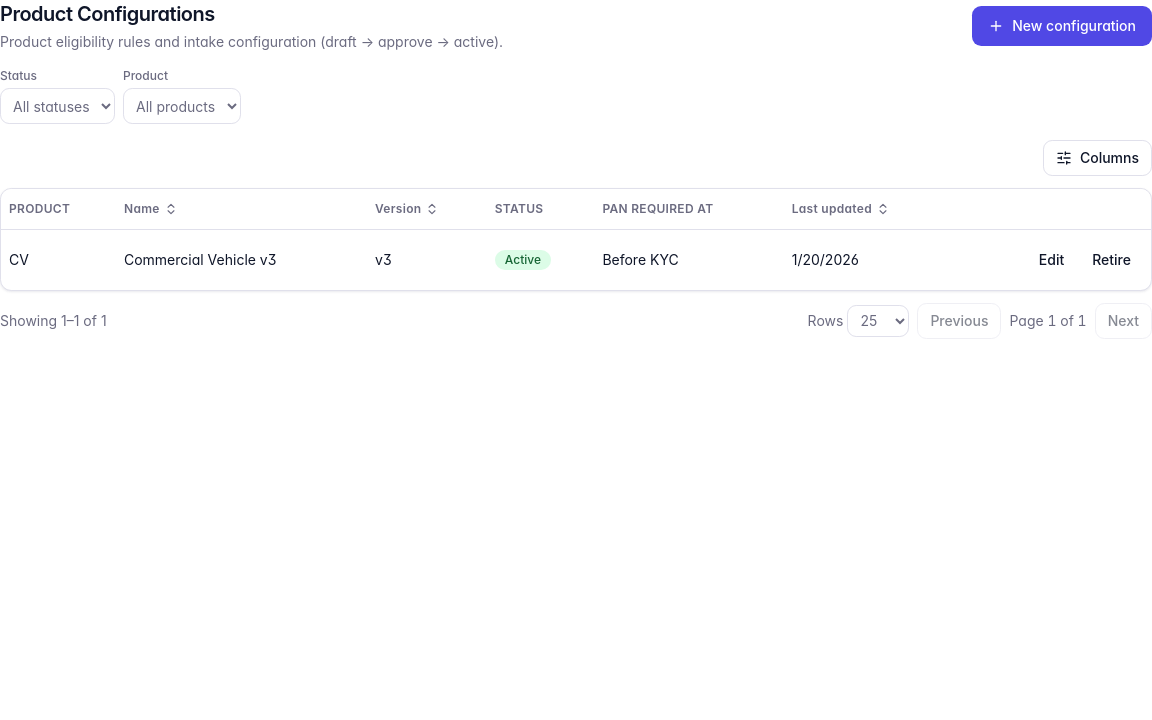
it: ProductConfigPage › opens the create modal with the maker-checker notice and required fields
The width and height of the screenshot is (1152, 720).
Click the button "New configuration" at (1062, 26), box 972,6 -> 1151,46
(page scrolled)
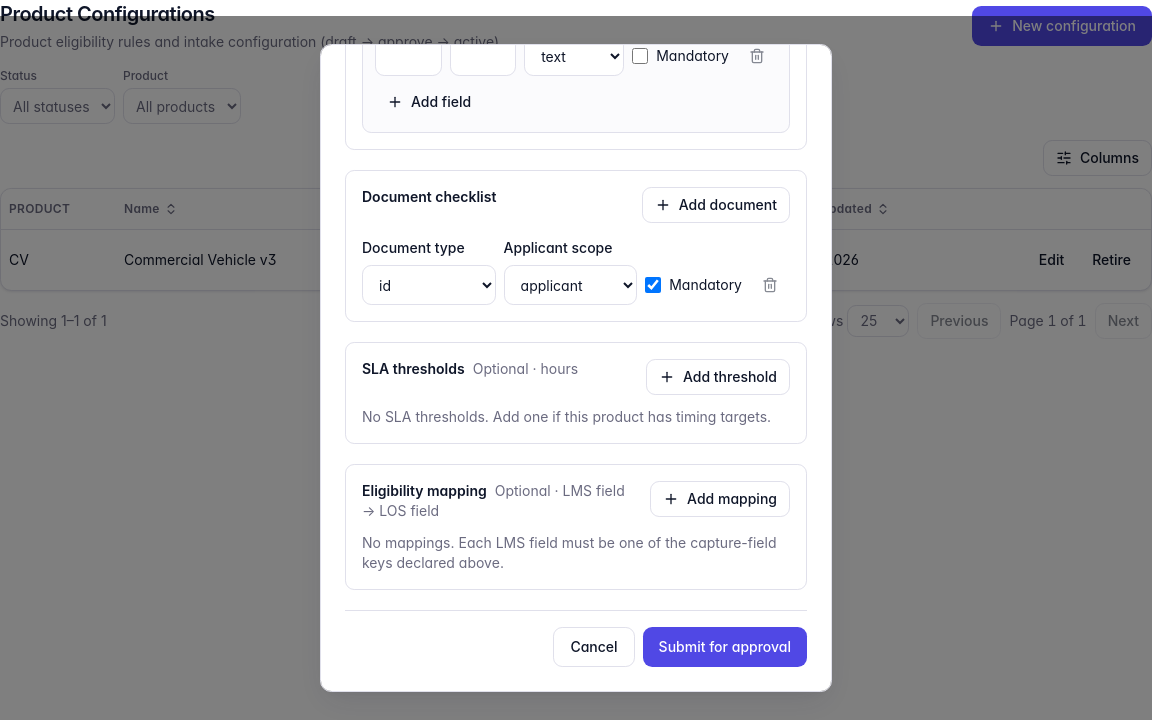
Result: the button "Submit for approval" is shown at 643,627 -> 807,667
